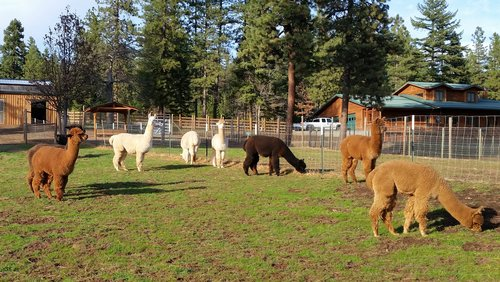alpaca: (366, 159, 484, 239), (27, 124, 89, 201), (340, 114, 387, 184), (108, 111, 157, 173), (241, 133, 307, 177), (212, 117, 227, 169), (179, 130, 201, 164)
